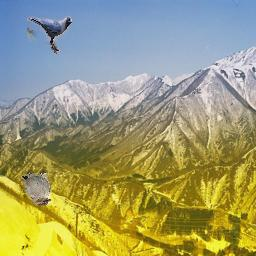Crow: (28, 16, 73, 54)
Sparrow: (21, 170, 51, 206)
